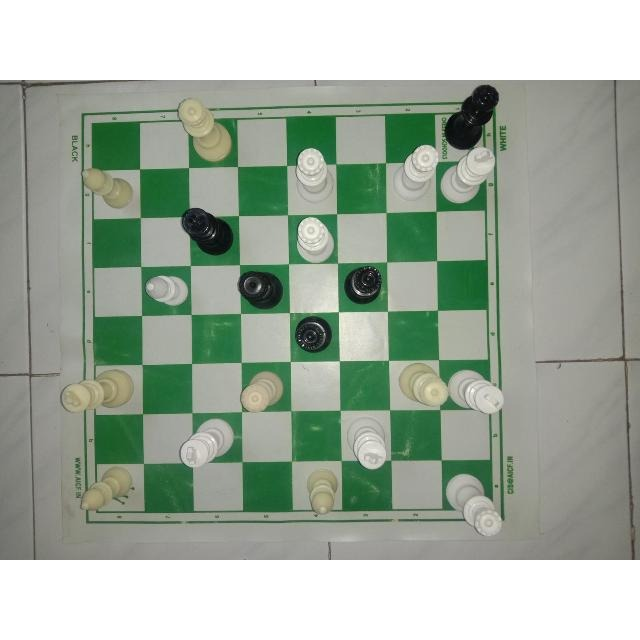black-king: (178, 207, 235, 255)
black-queen: (446, 82, 500, 146), (232, 266, 288, 311), (341, 263, 385, 306), (296, 315, 334, 357)
white-bishop: (78, 458, 136, 515), (79, 165, 135, 213), (304, 464, 342, 515), (142, 271, 192, 308)
white-king: (58, 367, 135, 419), (440, 147, 494, 204), (450, 369, 509, 421), (180, 417, 236, 468), (342, 412, 388, 473)
white-queen: (176, 95, 236, 165), (441, 472, 504, 538), (390, 142, 440, 204), (395, 359, 449, 409), (293, 145, 336, 205), (293, 214, 337, 264), (239, 366, 287, 411)
